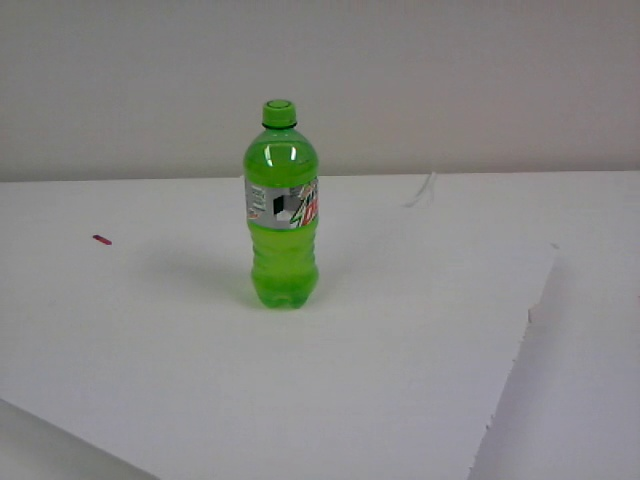botolplastik: (245, 101, 317, 309)
